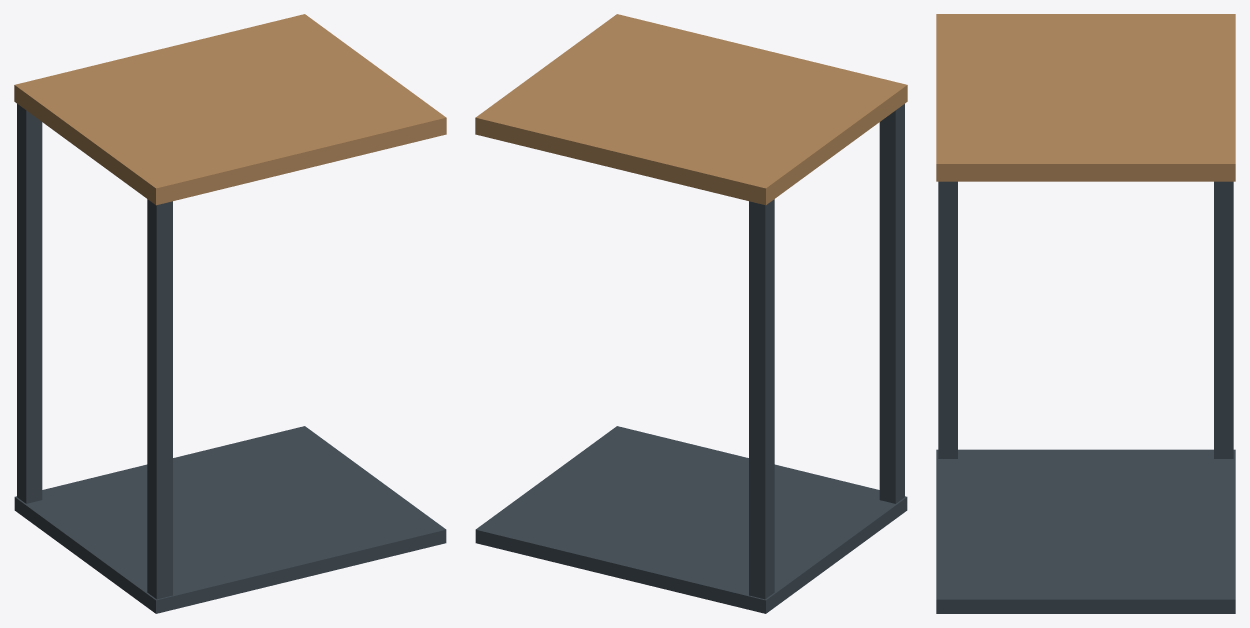
File: sideTable-2.glb
3 renders of one model, left to right at view 1: azimuth 30°, elevation 25°; view 2: azimuth 150°, elevation 25°; view 3: azimuth 270°, elevation 25°, orthographic. The views are drawn at different scales.
Visible parts, largest first — view 1: sideTable:2:editor; view 2: sideTable:2:editor; view 3: sideTable:2:editor.
Part boxes in pixels (x1,y1,x2,y2): sideTable:2:editor: (14, 14, 446, 613); sideTable:2:editor: (475, 14, 907, 613); sideTable:2:editor: (936, 14, 1235, 613).
Bounding box in the file's own units: 0.45 × 0.63 × 0.38.
